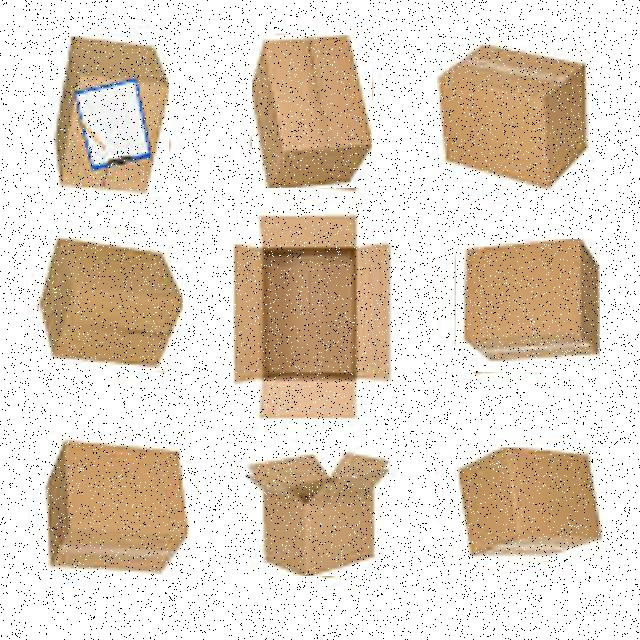defect: (229, 212, 395, 423), (245, 446, 391, 576)
normal: (437, 36, 592, 191), (43, 437, 191, 575), (39, 238, 183, 371), (456, 239, 600, 372), (53, 36, 169, 197), (252, 35, 372, 188), (451, 447, 603, 561)
